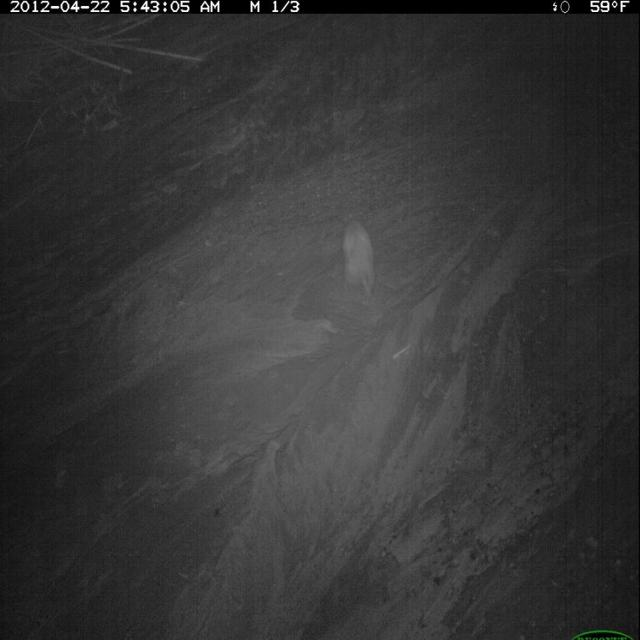opossum: (339, 216, 381, 316)
